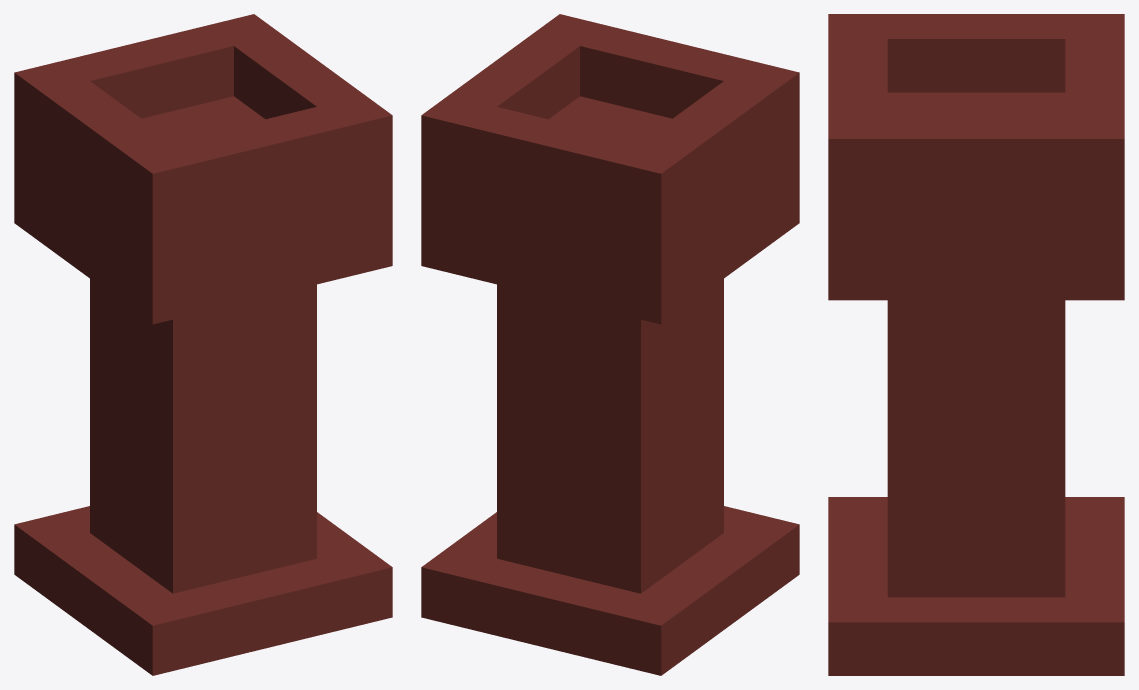
Rendered from ground_torch_b_b_unlit.obj.
3 views of the same model, side by side, from view 1: azimuth 30°, elevation 25°; view 2: azimuth 150°, elevation 25°; view 3: azimuth 270°, elevation 25° (orthographic). The views are drawn at different scales.
Size of the model in its own units: 0.5 by 1 by 0.5.
1 material, 1 textured.
